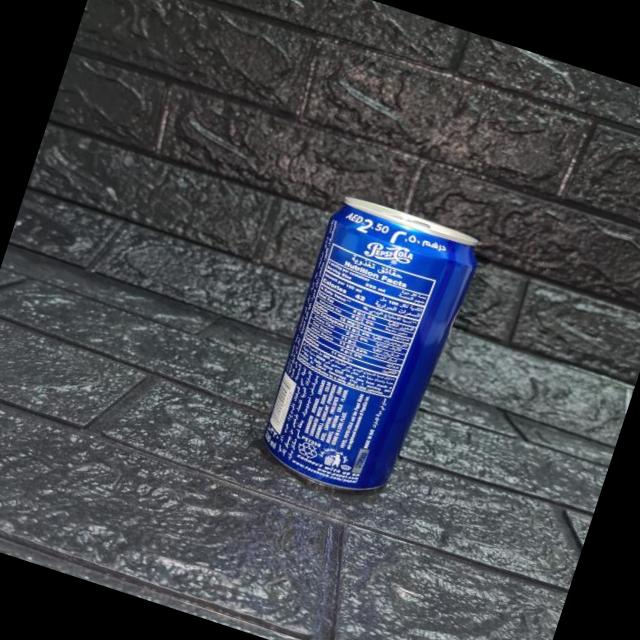Kaleng: (248, 189, 486, 511)
